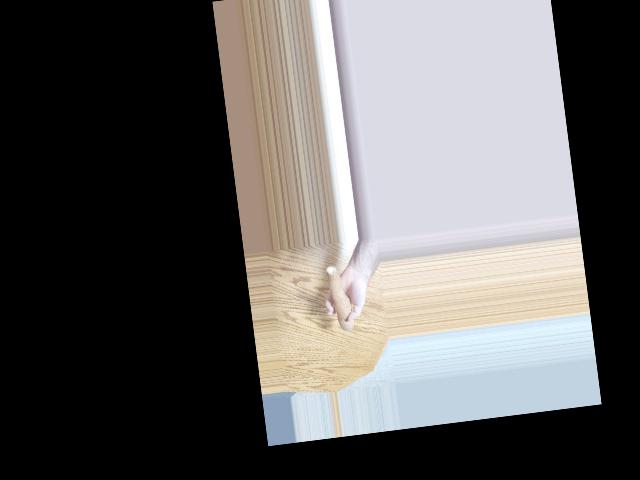sweet_potato: (328, 265, 355, 331)
